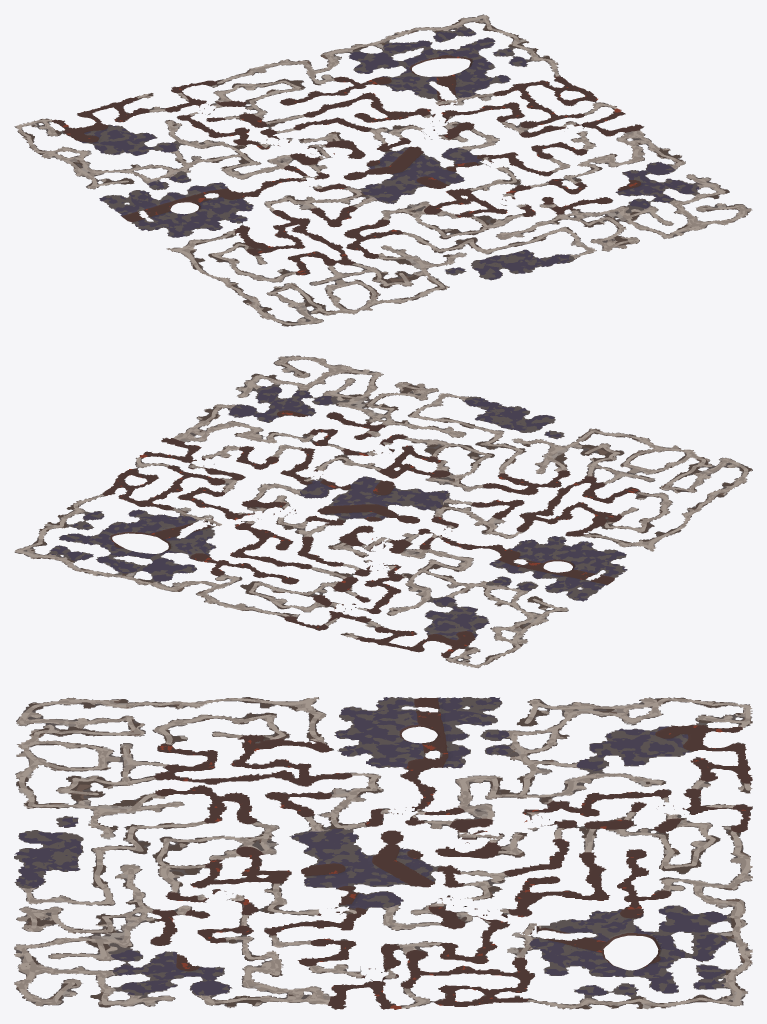
The model's file is Dungeon-3-Ground.fbx.
3 renders of one model, top to bottom at view 1: azimuth 30°, elevation 25°; view 2: azimuth 150°, elevation 25°; view 3: azimuth 270°, elevation 25°, orthographic. The views are drawn at different scales.
Parts seen in each view (by area): view 1: Dungeon-3-Ground-c04, Dungeon-3-Ground-c43, Dungeon-3-Ground-c14, Dungeon-3-Ground-c67, Dungeon-3-Ground-c16, Dungeon-3-Ground-c44, Dungeon-3-Ground-c33, Dungeon-3-Ground-c66, Dungeon-3-Ground-c61, Dungeon-3-Ground-c71, Dungeon-3-Ground-c57, Dungeon-3-Ground-c65 (+52 smaller); view 2: Dungeon-3-Ground-c04, Dungeon-3-Ground-c43, Dungeon-3-Ground-c14, Dungeon-3-Ground-c16, Dungeon-3-Ground-c33, Dungeon-3-Ground-c44, Dungeon-3-Ground-c67, Dungeon-3-Ground-c61, Dungeon-3-Ground-c66, Dungeon-3-Ground-c71, Dungeon-3-Ground-c65, Dungeon-3-Ground-c56 (+52 smaller); view 3: Dungeon-3-Ground-c04, Dungeon-3-Ground-c43, Dungeon-3-Ground-c14, Dungeon-3-Ground-c16, Dungeon-3-Ground-c44, Dungeon-3-Ground-c67, Dungeon-3-Ground-c33, Dungeon-3-Ground-c66, Dungeon-3-Ground-c61, Dungeon-3-Ground-c71, Dungeon-3-Ground-c57, Dungeon-3-Ground-c65 (+52 smaller).
Boxes of the visible parts, x1=… form: Dungeon-3-Ground-c04: x1=108, y1=192, x2=201, y2=230; Dungeon-3-Ground-c43: x1=384, y1=157, x2=464, y2=193; Dungeon-3-Ground-c14: x1=168, y1=182, x2=254, y2=216; Dungeon-3-Ground-c67: x1=371, y1=27, x2=460, y2=64; Dungeon-3-Ground-c16: x1=96, y1=131, x2=184, y2=155; Dungeon-3-Ground-c44: x1=348, y1=133, x2=444, y2=172; Dungeon-3-Ground-c33: x1=323, y1=172, x2=413, y2=210; Dungeon-3-Ground-c66: x1=401, y1=50, x2=489, y2=90; Dungeon-3-Ground-c61: x1=585, y1=179, x2=673, y2=219; Dungeon-3-Ground-c71: x1=637, y1=169, x2=728, y2=204; Dungeon-3-Ground-c57: x1=320, y1=43, x2=400, y2=80; Dungeon-3-Ground-c65: x1=436, y1=76, x2=532, y2=114; Dungeon-3-Ground-c04: x1=536, y1=555, x2=627, y2=594; Dungeon-3-Ground-c43: x1=326, y1=476, x2=415, y2=510; Dungeon-3-Ground-c14: x1=489, y1=543, x2=568, y2=578; Dungeon-3-Ground-c16: x1=416, y1=594, x2=484, y2=632; Dungeon-3-Ground-c33: x1=387, y1=488, x2=478, y2=525; Dungeon-3-Ground-c44: x1=300, y1=495, x2=385, y2=536; Dungeon-3-Ground-c67: x1=67, y1=543, x2=158, y2=579; Dungeon-3-Ground-c61: x1=274, y1=388, x2=369, y2=423; Dungeon-3-Ground-c66: x1=98, y1=519, x2=193, y2=557; Dungeon-3-Ground-c71: x1=235, y1=375, x2=308, y2=414; Dungeon-3-Ground-c65: x1=134, y1=492, x2=225, y2=532; Dungeon-3-Ground-c56: x1=159, y1=532, x2=254, y2=572; Dungeon-3-Ground-c04: x1=383, y1=697, x2=477, y2=736; Dungeon-3-Ground-c43: x1=289, y1=853, x2=383, y2=893; Dungeon-3-Ground-c14: x1=382, y1=734, x2=470, y2=775; Dungeon-3-Ground-c16: x1=569, y1=734, x2=663, y2=774; Dungeon-3-Ground-c44: x1=382, y1=853, x2=477, y2=892; Dungeon-3-Ground-c67: x1=661, y1=931, x2=752, y2=971; Dungeon-3-Ground-c33: x1=289, y1=813, x2=383, y2=853; Dungeon-3-Ground-c66: x1=569, y1=931, x2=663, y2=971; Dungeon-3-Ground-c61: x1=103, y1=931, x2=197, y2=971; Dungeon-3-Ground-c71: x1=103, y1=970, x2=197, y2=1007; Dungeon-3-Ground-c57: x1=661, y1=892, x2=747, y2=931; Dungeon-3-Ground-c65: x1=475, y1=930, x2=570, y2=972.
Size of the model in its own units: 131 by 1.14 by 131.
